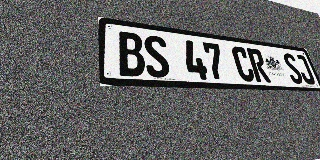4: (181, 39, 209, 80)
7: (201, 42, 228, 81)
B: (117, 31, 146, 77)
C: (230, 46, 256, 82)
J: (293, 54, 316, 85)
R: (246, 48, 271, 83)
S: (142, 34, 171, 78), (281, 52, 305, 84)
